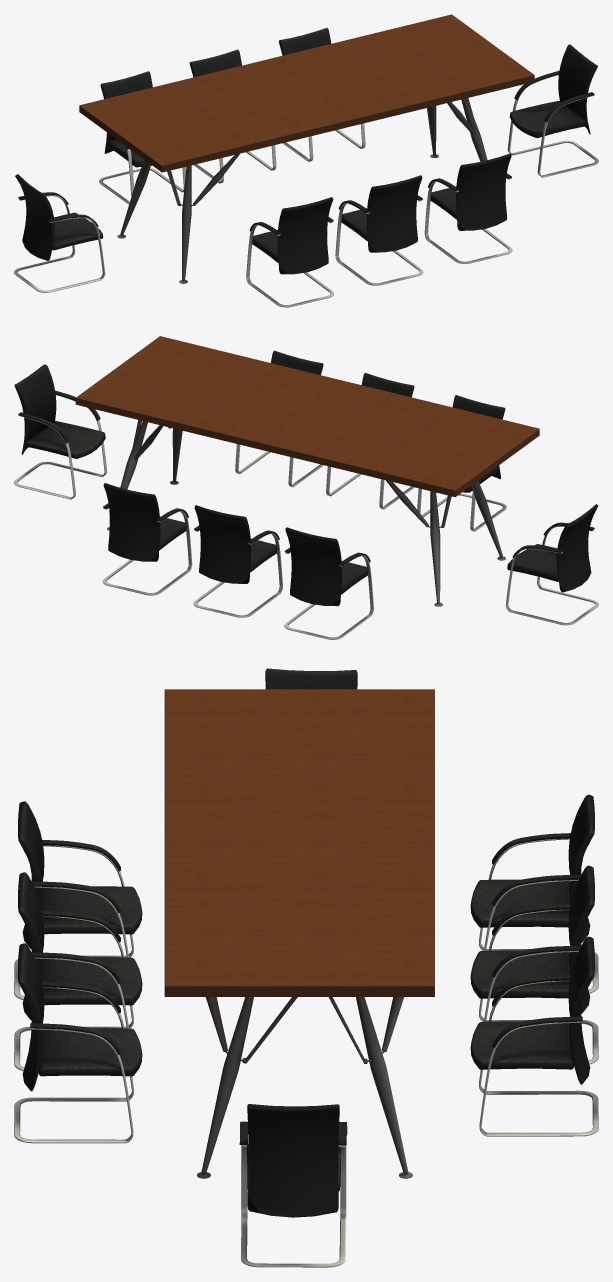
The model's file is huiyizhuo3.obj.
The picture shows the model from 3 angles, top to bottom: view 1: azimuth 30°, elevation 25°; view 2: azimuth 150°, elevation 25°; view 3: azimuth 270°, elevation 25°; orthographic projection. The views are drawn at different scales.
Visible parts, largest first — view 1: 1, Line1789527819, Line1789527815, Line1789527813, Line1789527814, Line1789527820, Line1789527818, Line1789527817, Line1789527816; view 2: 1, Line1789527819, Line1789527817, Line1789527816, Line1789527818, Line1789527820, Line1789527815, Line1789527814, Line1789527813; view 3: 1, Line1789527819, Line1789527814, Line1789527817, Line1789527813, Line1789527816, Line1789527815, Line1789527818, Line1789527820.
Part boxes in pixels (left/top/right/bottom): 1: left=79, top=14, right=534, bottom=283; Line1789527819: left=507, top=44, right=598, bottom=177; Line1789527815: left=246, top=197, right=333, bottom=307; Line1789527813: left=335, top=175, right=423, bottom=285; Line1789527814: left=424, top=153, right=512, bottom=263; Line1789527820: left=14, top=174, right=105, bottom=292; Line1789527818: left=99, top=71, right=185, bottom=204; Line1789527817: left=279, top=28, right=365, bottom=161; Line1789527816: left=189, top=49, right=276, bottom=183; 1: left=75, top=336, right=539, bottom=606; Line1789527819: left=14, top=364, right=106, bottom=499; Line1789527817: left=102, top=483, right=192, bottom=595; Line1789527816: left=193, top=505, right=282, bottom=617; Line1789527818: left=284, top=527, right=373, bottom=639; Line1789527820: left=505, top=504, right=598, bottom=625; Line1789527815: left=417, top=395, right=506, bottom=531; Line1789527814: left=235, top=350, right=323, bottom=487; Line1789527813: left=326, top=373, right=414, bottom=509; 1: left=164, top=689, right=434, bottom=1178; Line1789527819: left=239, top=1104, right=347, bottom=1267; Line1789527814: left=14, top=943, right=142, bottom=1143; Line1789527817: left=470, top=936, right=598, bottom=1136; Line1789527813: left=14, top=872, right=142, bottom=1070; Line1789527816: left=470, top=865, right=598, bottom=1064; Line1789527815: left=14, top=801, right=142, bottom=999; Line1789527818: left=470, top=794, right=598, bottom=993; Line1789527820: left=265, top=668, right=357, bottom=689.
Bounding box in the file's own units: 493 × 110 × 276.
Materials: 2 (2 with a texture image).
